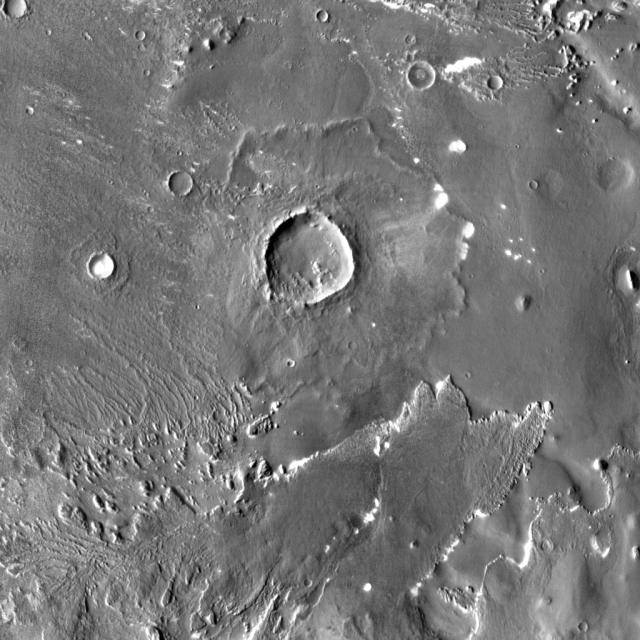crater: (264, 213, 356, 306), (408, 62, 437, 89), (168, 171, 194, 196), (88, 254, 114, 278), (3, 0, 27, 18), (487, 75, 503, 90), (541, 539, 553, 552), (317, 10, 329, 22), (135, 30, 146, 40), (578, 622, 588, 632), (14, 341, 25, 350), (406, 35, 416, 44), (348, 341, 358, 350), (530, 180, 538, 190), (363, 583, 372, 591), (287, 360, 295, 368), (304, 579, 312, 587), (82, 32, 89, 40), (26, 107, 34, 114), (321, 309, 328, 316), (138, 45, 146, 51), (85, 34, 92, 40), (26, 360, 32, 367), (143, 70, 150, 76), (76, 139, 82, 145), (620, 89, 626, 95), (215, 189, 221, 195), (46, 30, 52, 36), (144, 192, 150, 197), (465, 373, 471, 378), (177, 150, 182, 156), (148, 207, 154, 212), (82, 31, 87, 36), (353, 127, 358, 132), (608, 289, 613, 294), (90, 12, 96, 16), (540, 268, 544, 274), (468, 274, 474, 278), (128, 94, 133, 98), (609, 514, 614, 518), (230, 126, 235, 130), (34, 102, 38, 106), (242, 282, 246, 286), (194, 396, 198, 400), (316, 185, 320, 189), (109, 180, 113, 184), (195, 305, 199, 309)
